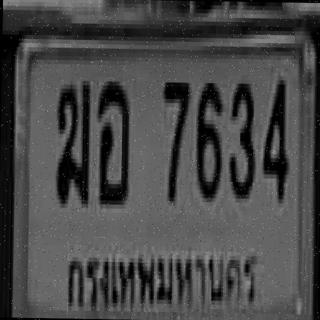A06: (54, 78, 89, 202)
A43: (94, 77, 129, 200)
N03: (228, 80, 254, 194)
N04: (260, 76, 287, 199)
N06: (195, 78, 221, 198)
N07: (160, 78, 189, 198)
P04: (56, 236, 257, 320)
